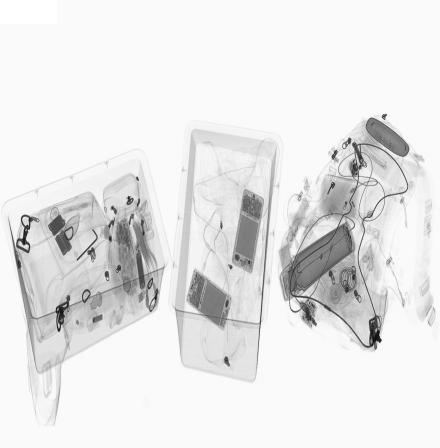Powerbank: (185, 268, 234, 332)
